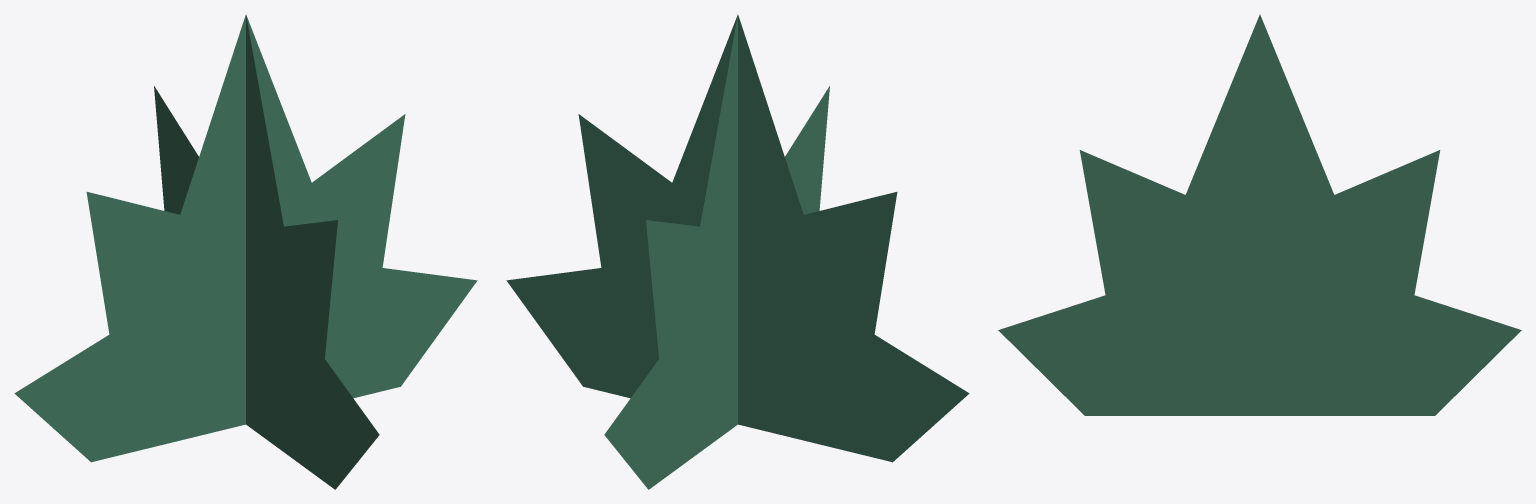
The model's file is naturePack_flat_001.fbx.
The picture shows the model from 3 angles, left to right: view 1: azimuth 30°, elevation 25°; view 2: azimuth 150°, elevation 25°; view 3: azimuth 270°, elevation 25°; orthographic projection. The views are drawn at different scales.
Visible parts, largest first — view 1: Mesh1_Plant_2 Model; view 2: Mesh1_Plant_2 Model; view 3: Mesh1_Plant_2 Model.
Boxes of the visible parts, box(x1,y1,x2,y2) form: Mesh1_Plant_2 Model: box(14, 14, 477, 489); Mesh1_Plant_2 Model: box(506, 14, 969, 489); Mesh1_Plant_2 Model: box(998, 14, 1521, 415).
Size of the model in its own units: 0.7503 by 0.6353 by 0.7503.
